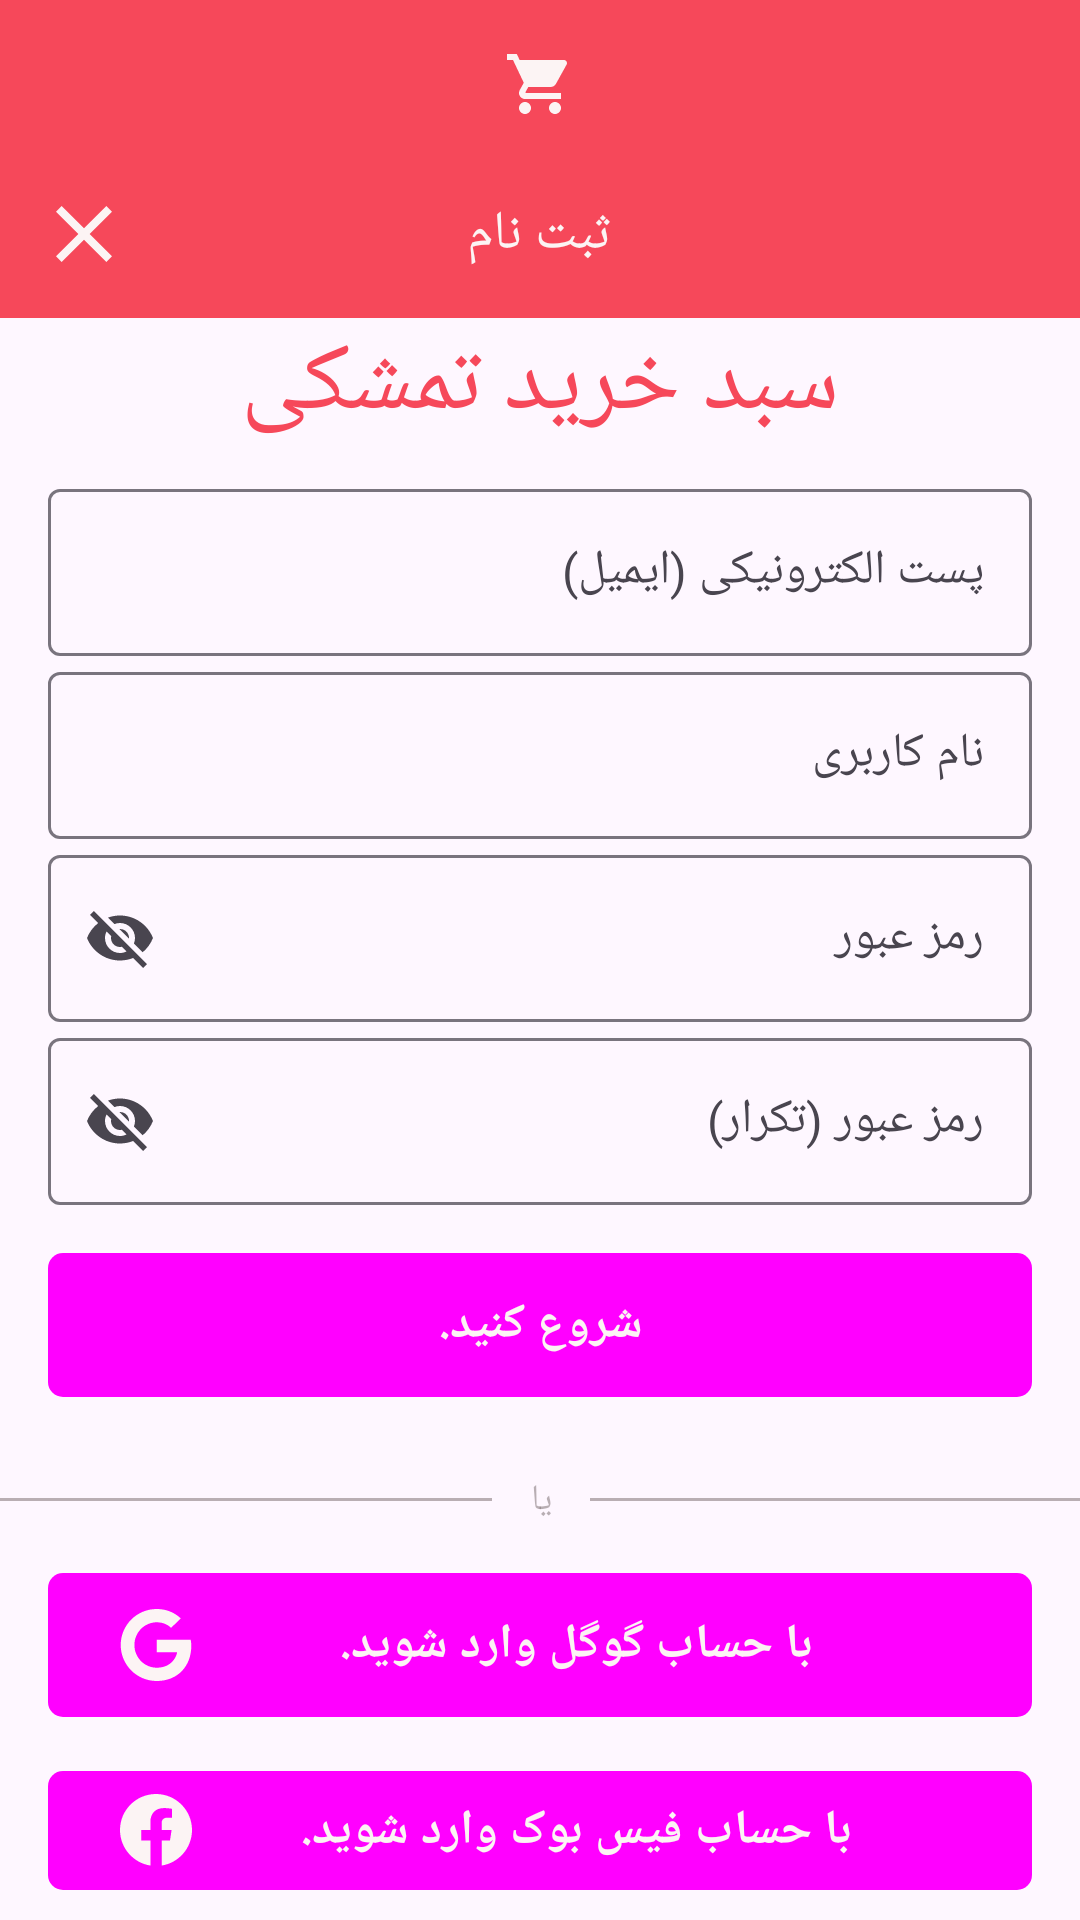

Icon bounding boxes for this 1080×1920 phone screenshot, format (x1, y1, x2, y2):
cart: (507, 54, 567, 114)
بستن: (56, 206, 112, 262)
